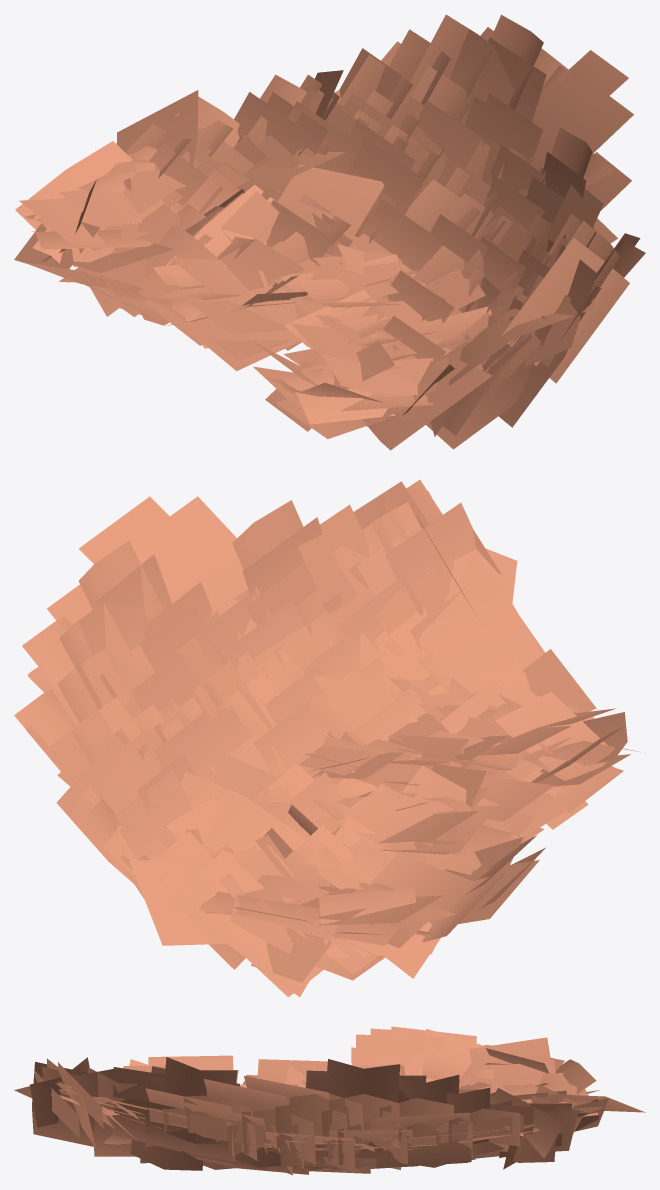
The model's file is savTreeCypressSmallLeaf.fbx.
3 renders of one model, top to bottom at view 1: azimuth 30°, elevation 25°; view 2: azimuth 150°, elevation 25°; view 3: azimuth 270°, elevation 25°, orthographic. The views are drawn at different scales.
Visible parts, largest first — view 1: savTreeCypressLeafSmall_LOD0; view 2: savTreeCypressLeafSmall_LOD0; view 3: savTreeCypressLeafSmall_LOD0.
Boxes of the visible parts, x1,y1,x2,y2 form: savTreeCypressLeafSmall_LOD0: (14,14,645,450); savTreeCypressLeafSmall_LOD0: (14,480,640,997); savTreeCypressLeafSmall_LOD0: (14,1026,645,1175).
Size of what is drawn, in the model's own units: 1628 by 772 by 2323.
